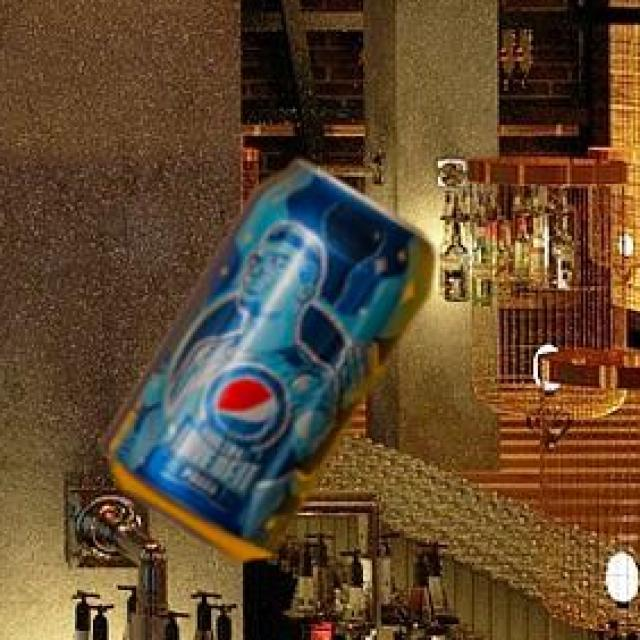logam: (103, 165, 437, 564)
